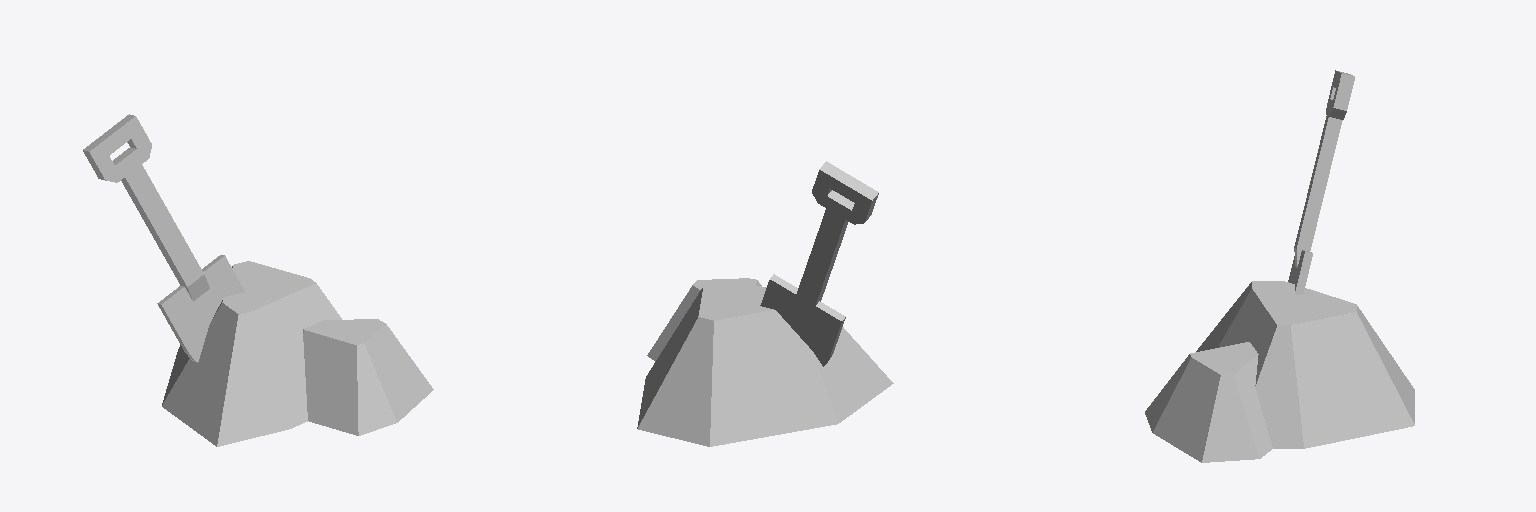
The model's file is shovelDirt.obj.
The picture shows the model from 3 angles: view 1: azimuth 30°, elevation 25°; view 2: azimuth 150°, elevation 25°; view 3: azimuth 270°, elevation 25°; orthographic projection.
Visible parts, largest first — view 1: shovelDirt; view 2: shovelDirt; view 3: shovelDirt.
Part boxes in pixels (x1,y1,x2,y2): shovelDirt: (83, 114, 433, 446); shovelDirt: (637, 161, 893, 446); shovelDirt: (1145, 70, 1414, 462).
Size of the model in its own units: 0.5994 by 0.5738 by 0.5057.